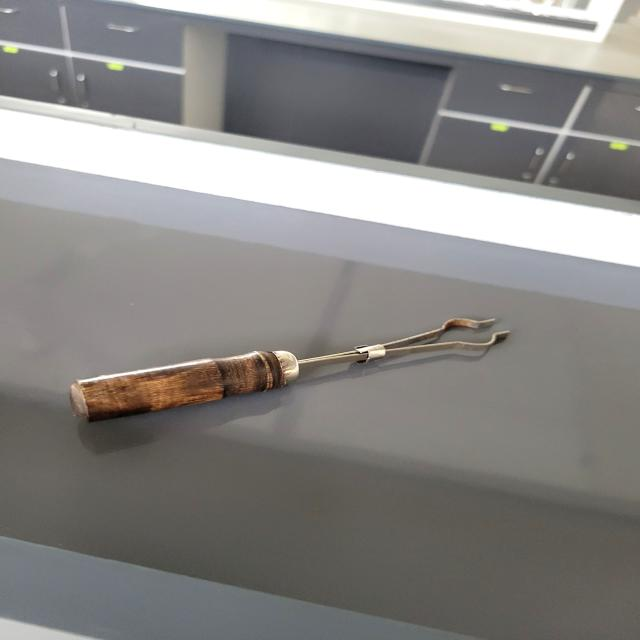TestTube_Holder: (60, 302, 522, 442)
